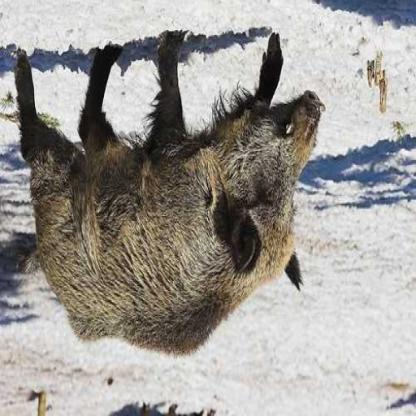boar: (0, 33, 352, 348)
